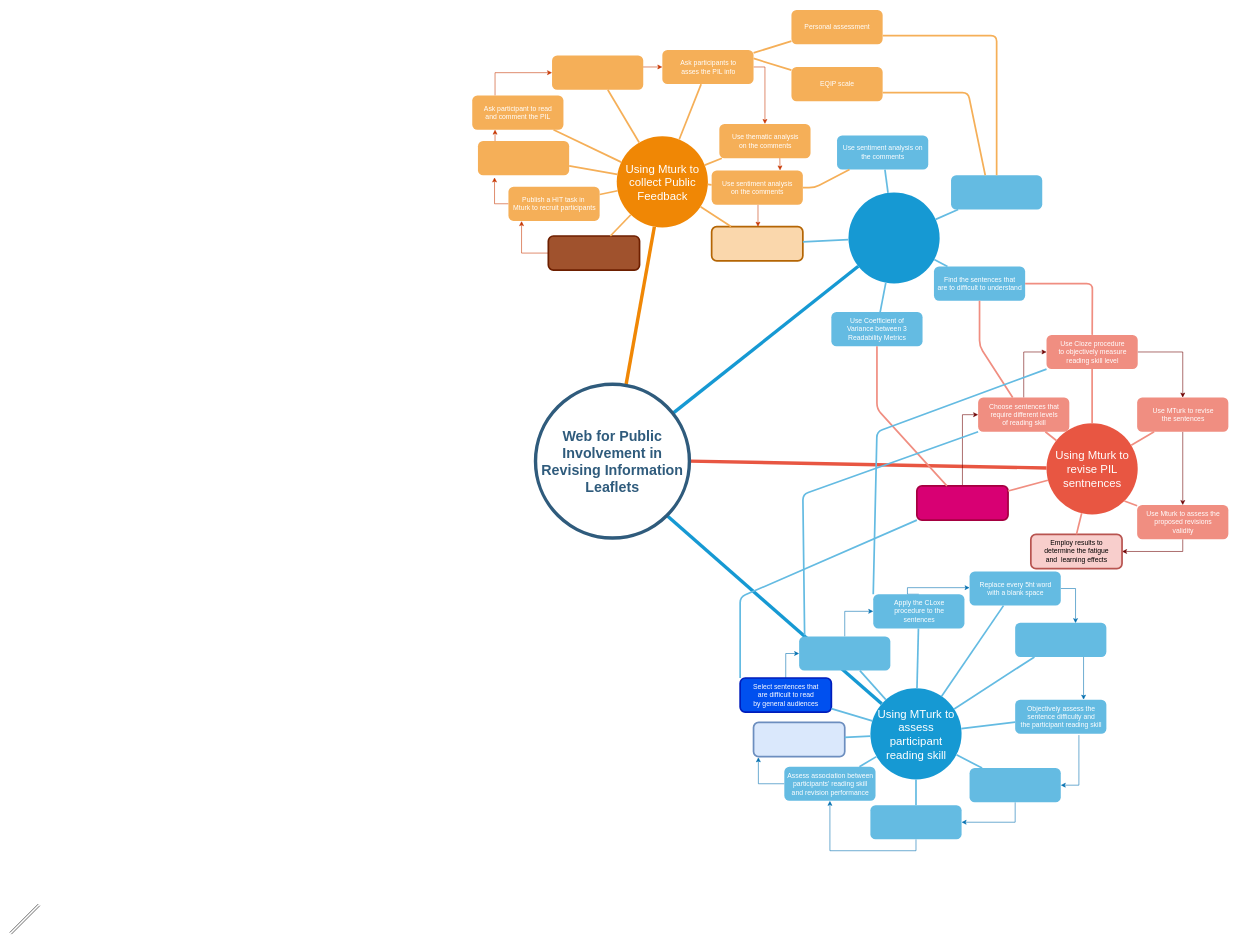
The diagram is 1239 pixels wide and 944 high, and some of its shapes have lost their labels. Here are the shapes that lost their labels. From the top down, the centre of each, then its label:
(597,72): Link comments with specific PIL sections
(523,158): Present the PIL text
(996,192): Assess the overall readability of a PIL
(593,253): Create an interactive website
(757,243): Highlight sentences for the PIL author
(893,237): Using Text Analytics to Identify Issues
(962,503): Objectively select sentences that are not easy to read
(844,653): Chose sentences that require different reading skill levels
(1060,639): Ask participants to complete the sentences
(798,739): Assess association between sentence difficulty and revision performance
(1014,785): Compare redability scores form CLoze and the Common readability indexes
(915,822): Validate the proposed revisions with MTurk Crowd-sourcing
